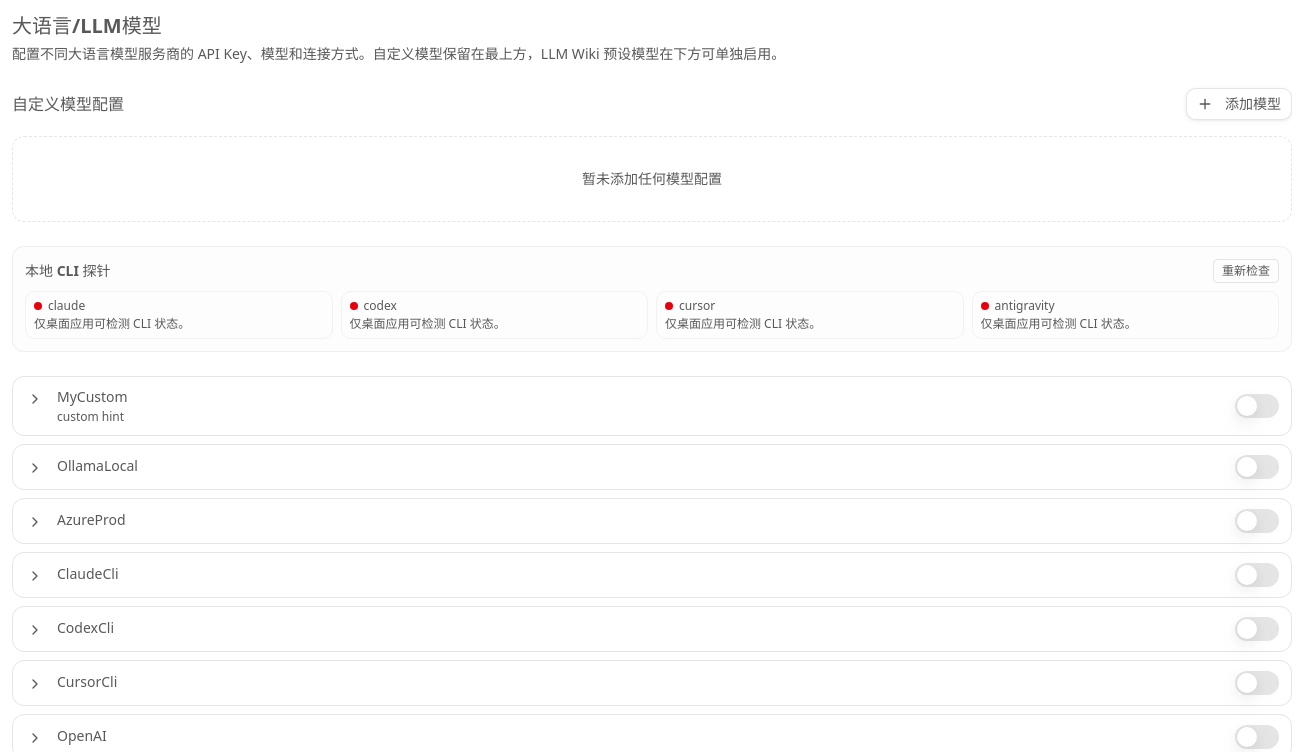
Test: LlmProviderSection — azure panel › falls back to AZURE_OPENAI_API_VERSION default when override is empty
The image size is (1304, 752).
Click the button titled "展开配置" at (91, 520), box [25,510,1223,532]
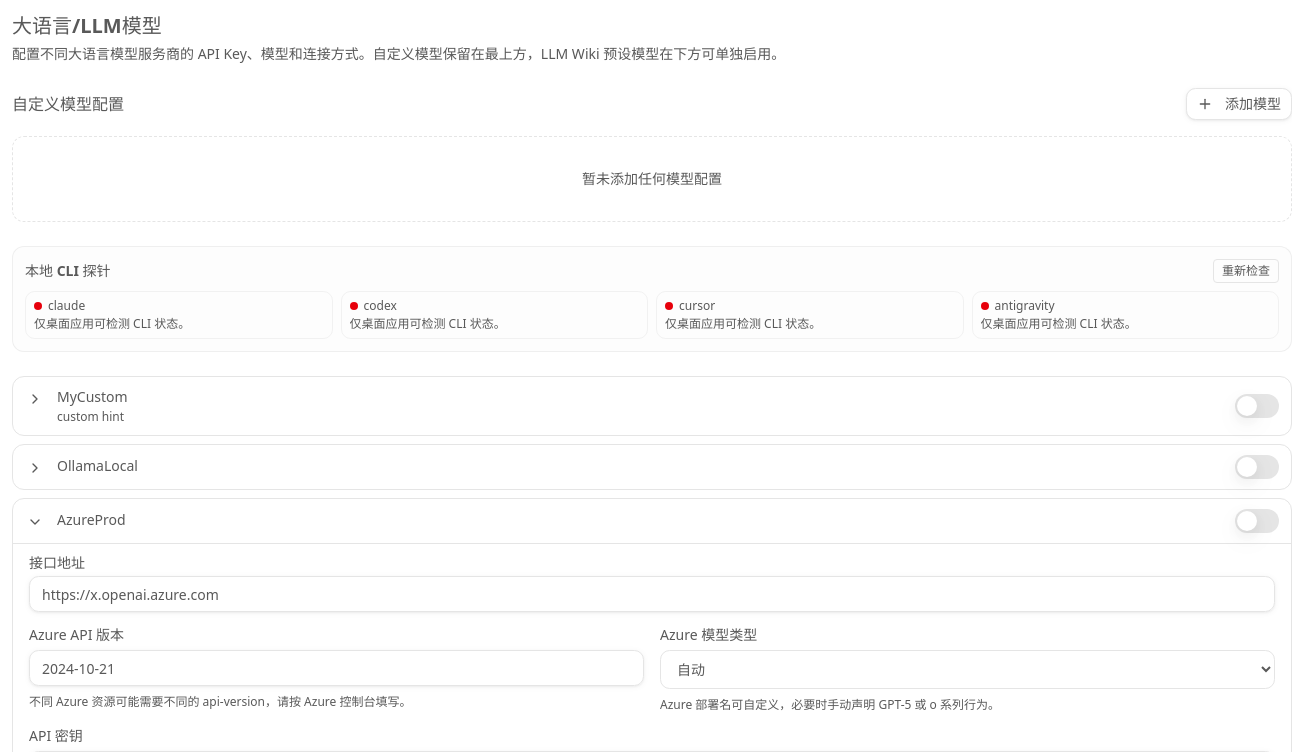
Expected: the field showing "2024-10-21" is shown, [29,650,644,686]
Expected: the dropdown labelled "Azure 模型类型" shows "自动", [660,650,1275,689]
